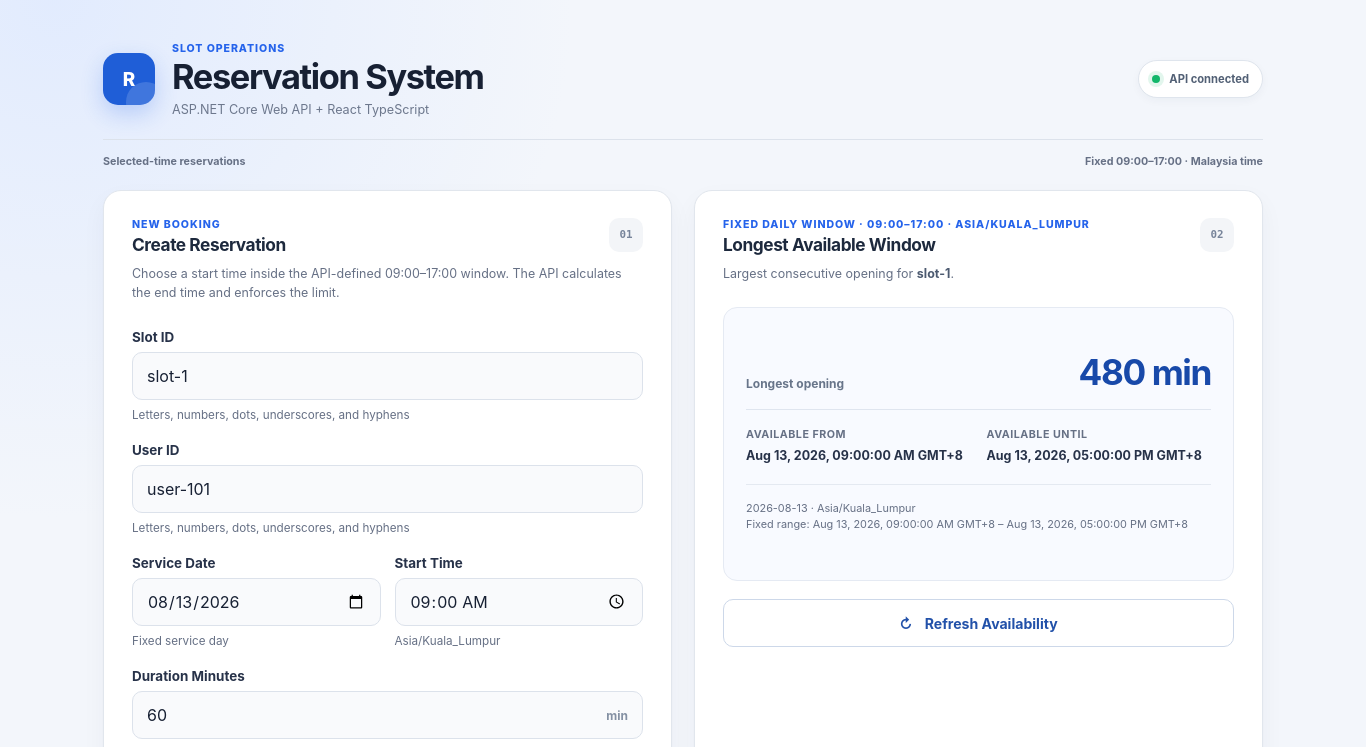
it: ReservationPage › blocks a slot ID that cannot safely round-trip through the API route
The width and height of the screenshot is (1366, 747).
Step 1. Replace the text in the field labelled "Slot ID" with "slot/with/slash" → (388, 376), box [132,352,643,400]
(page scrolled)
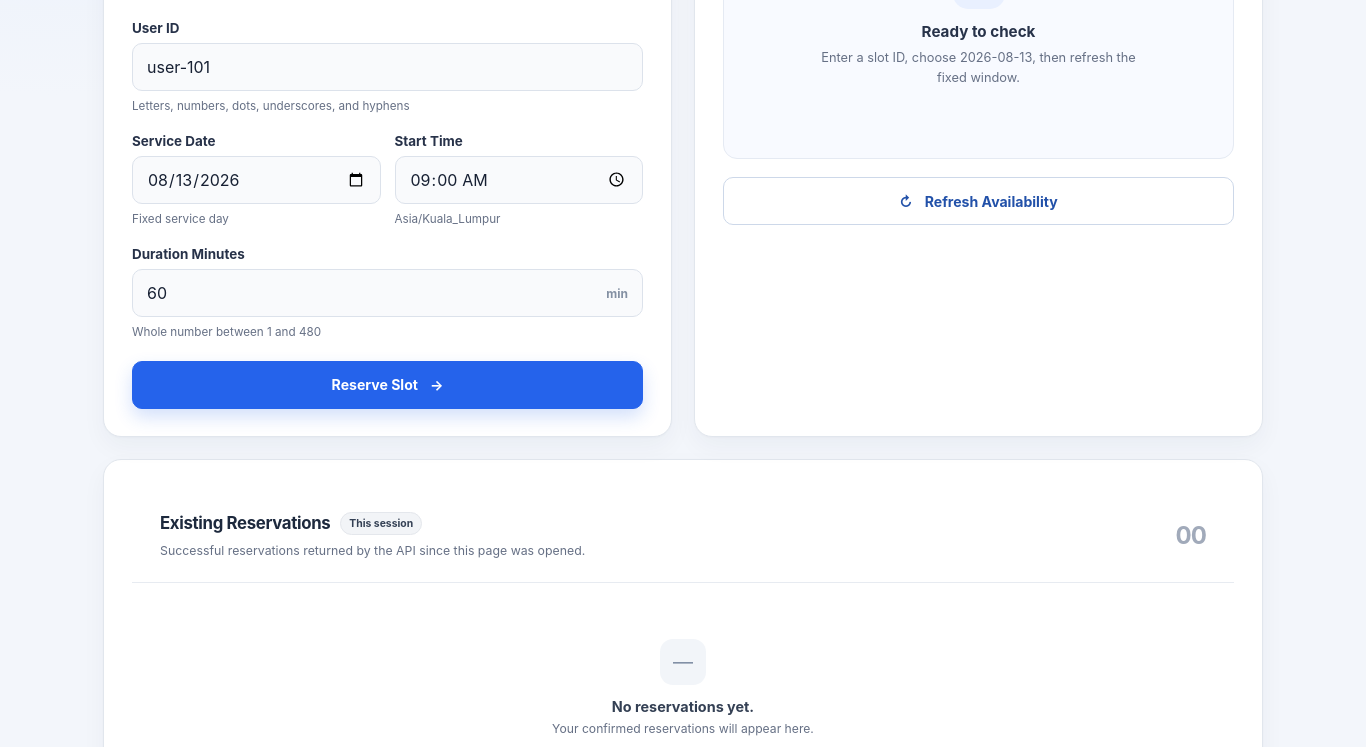
Step 2. Click the button "Reserve Slot →" → (388, 385), box [132,361,643,409]
(page scrolled)
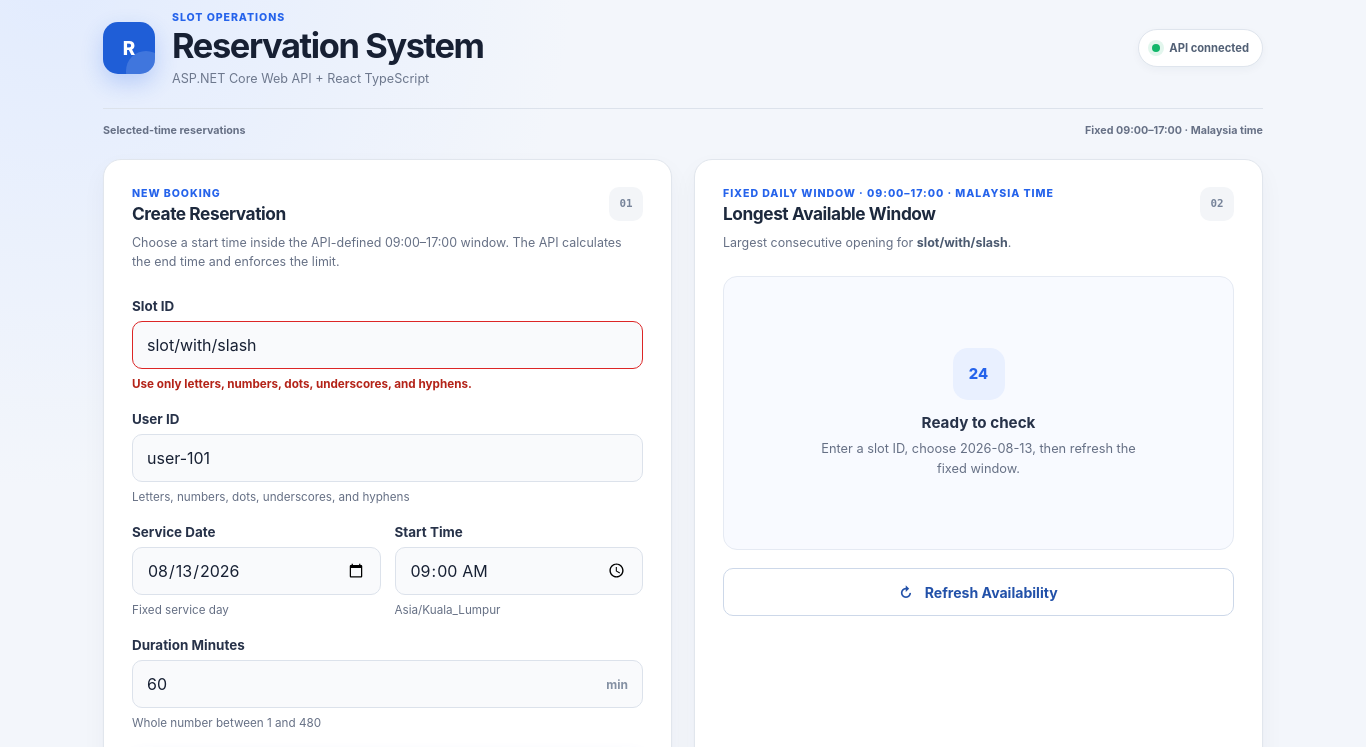
Now the text "Use only letters, numbers, dots, underscores, and hyphens." is shown, box [132,377,472,391]
